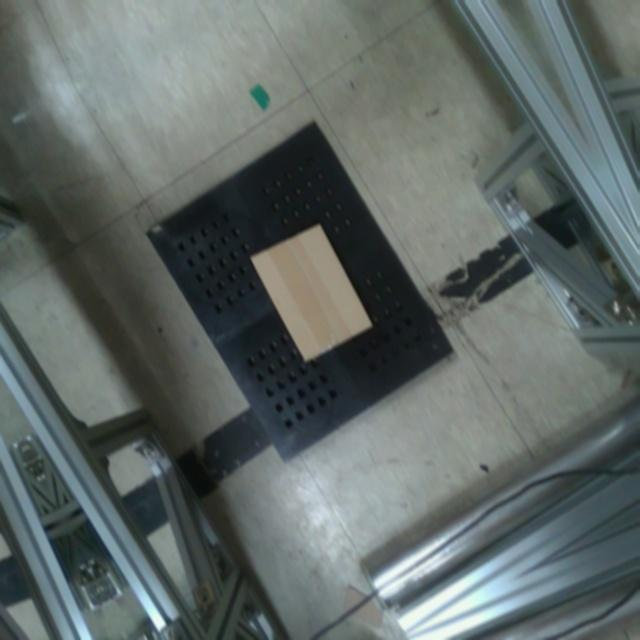box: (243, 214, 382, 370)
pallet: (140, 110, 459, 470)
